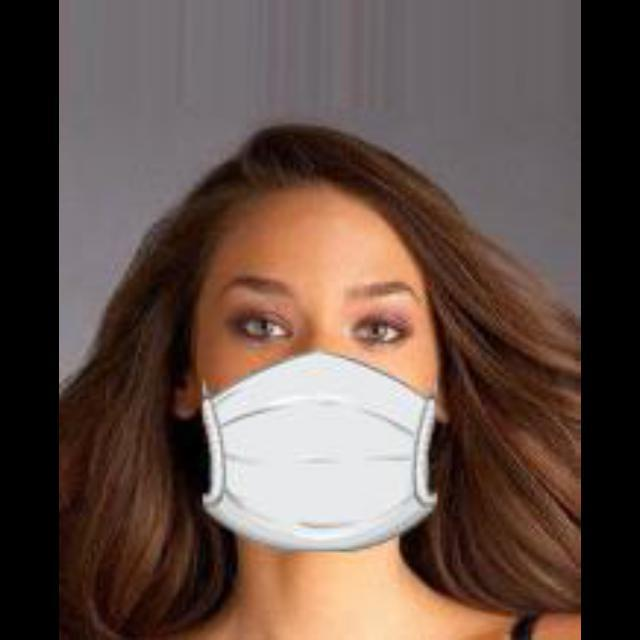suspicion: (154, 167, 466, 569)
